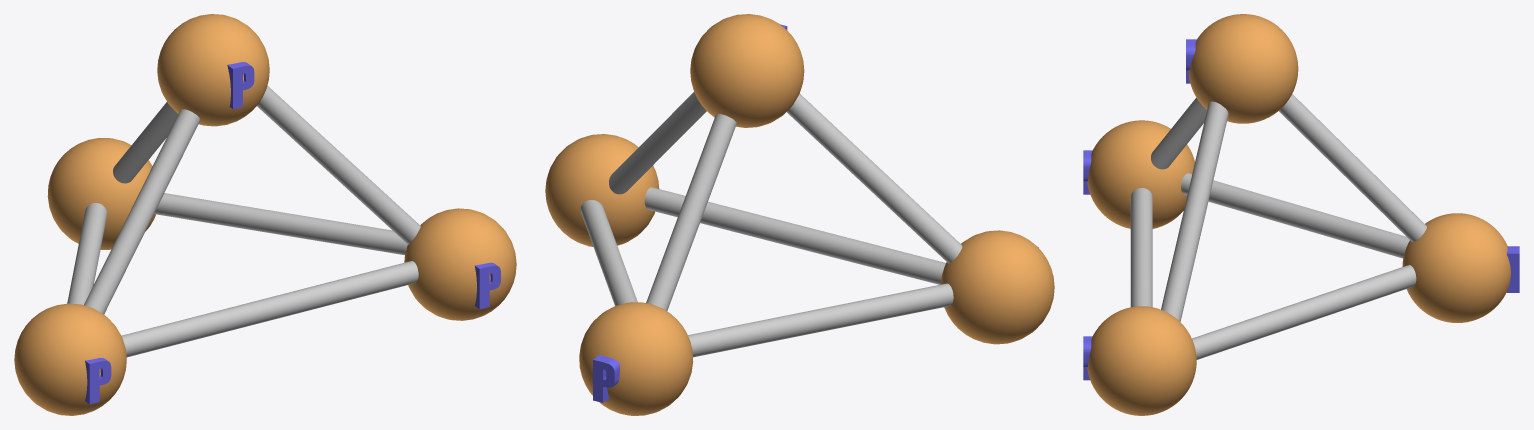
Rendered from asset.glb.
3 renders of one model, left to right at view 1: azimuth 30°, elevation 25°; view 2: azimuth 150°, elevation 25°; view 3: azimuth 270°, elevation 25°, orthographic. The views are drawn at different scales.
Parts seen in each view (by area): view 1: 3DGeom-1, 3DGeom-3, 3DGeom-2; view 2: 3DGeom-1, 3DGeom-3, 3DGeom-2; view 3: 3DGeom-1, 3DGeom-3, 3DGeom-2.
Boxes of the visible parts, x1,y1,x2,y2 form: 3DGeom-1: [14, 14, 516, 415]; 3DGeom-3: [67, 85, 420, 357]; 3DGeom-2: [85, 62, 500, 404]; 3DGeom-1: [545, 14, 1054, 415]; 3DGeom-3: [580, 92, 962, 357]; 3DGeom-2: [593, 24, 1038, 402]; 3DGeom-1: [1087, 14, 1510, 415]; 3DGeom-3: [1130, 94, 1426, 359]; 3DGeom-2: [1083, 39, 1519, 380].
Size of the model in its own units: 1 by 0.6 by 0.794.
